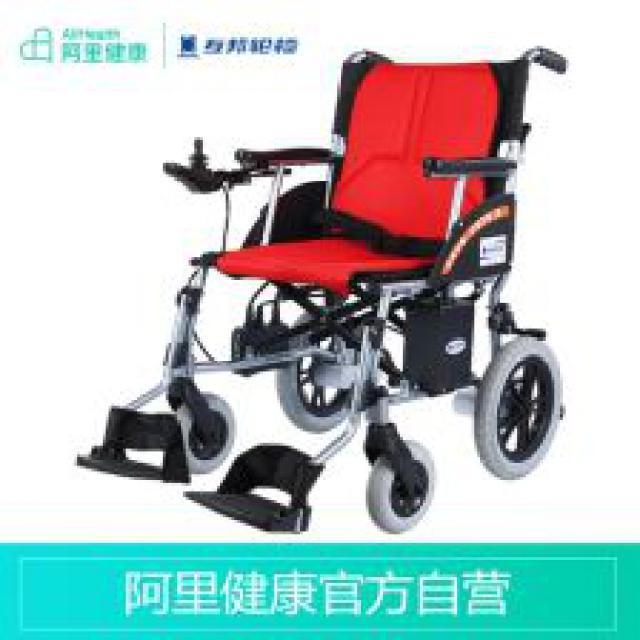wheelchairs: (89, 48, 566, 526)
